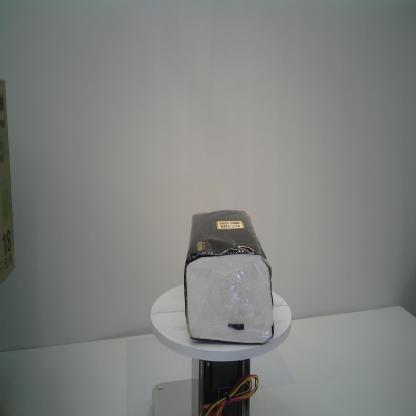Tissue: (183, 208, 276, 346)
